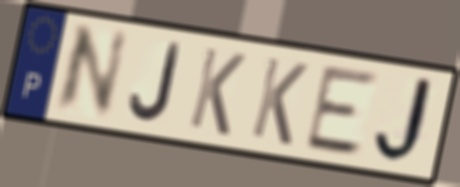E: (301, 64, 383, 159)
J: (371, 74, 442, 167), (126, 40, 184, 125)
K: (185, 44, 249, 140), (247, 53, 311, 149)
N: (49, 22, 133, 118)
